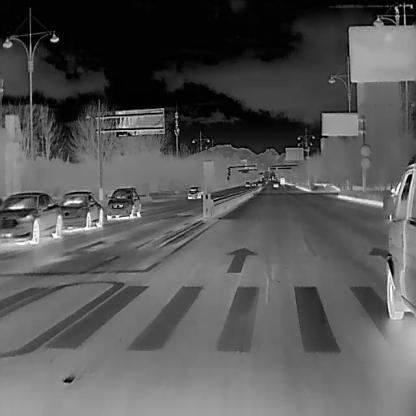bus: (280, 176, 284, 186)
car: (382, 162, 415, 322), (0, 186, 60, 244), (59, 190, 102, 227), (106, 185, 140, 219), (187, 184, 199, 196), (244, 180, 250, 186), (251, 180, 256, 186), (273, 182, 278, 187), (258, 180, 262, 186)
